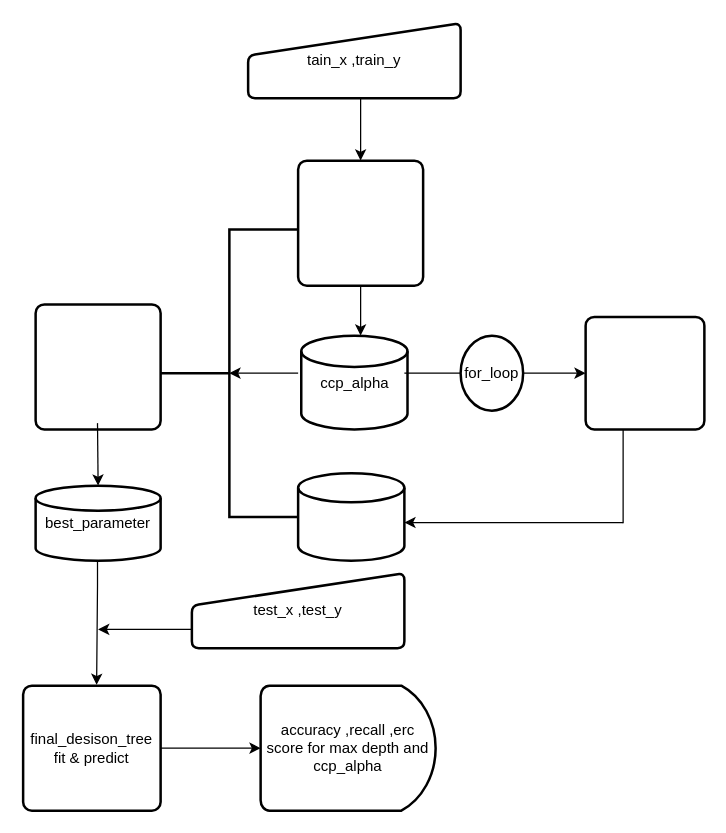
This 726x833 diagram has some shape labels left out. Here are the shapes that lost their labels. From the top down, the box of each, then its label:
(296, 159, 424, 286): initial decision tree
(34, 302, 161, 430): grid_scherch_cv
(584, 315, 705, 430): 2nd decision tree
(296, 471, 405, 561): max_depth
